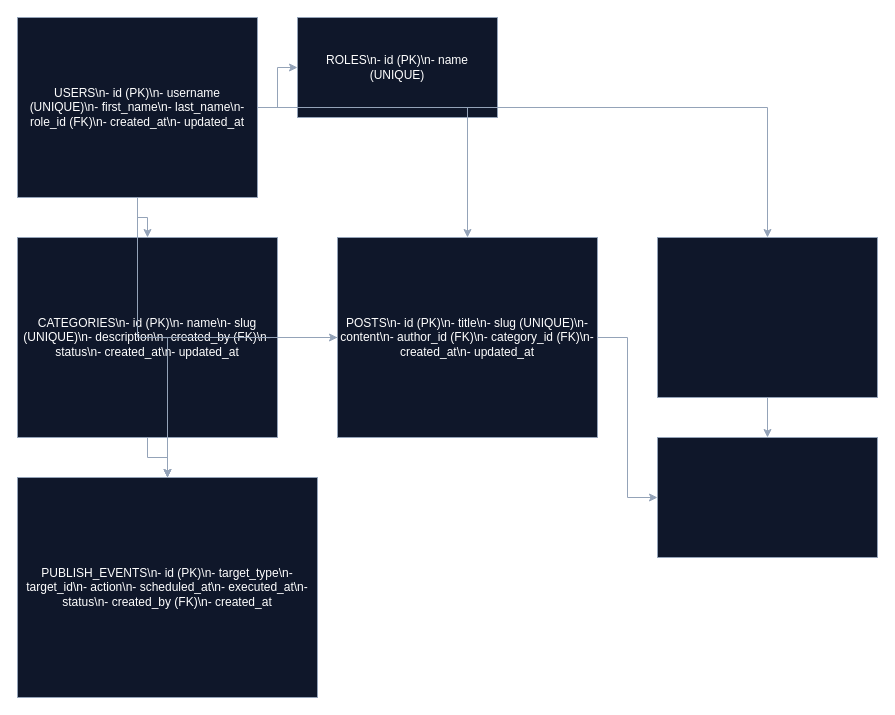
Image size: 895x715. Some labels were removed from this diagram. Here are the shapes that lost their labels. From the top down, the centre of each, then its label:
At pixel 767 317: "MEDIA\n- id (PK)\n- name\n- url\n- created_by (FK)\n- created_at".
At pixel 767 497: "POST_MEDIA\n- post_id (FK)\n- media_id (FK)\n- sort_order".
